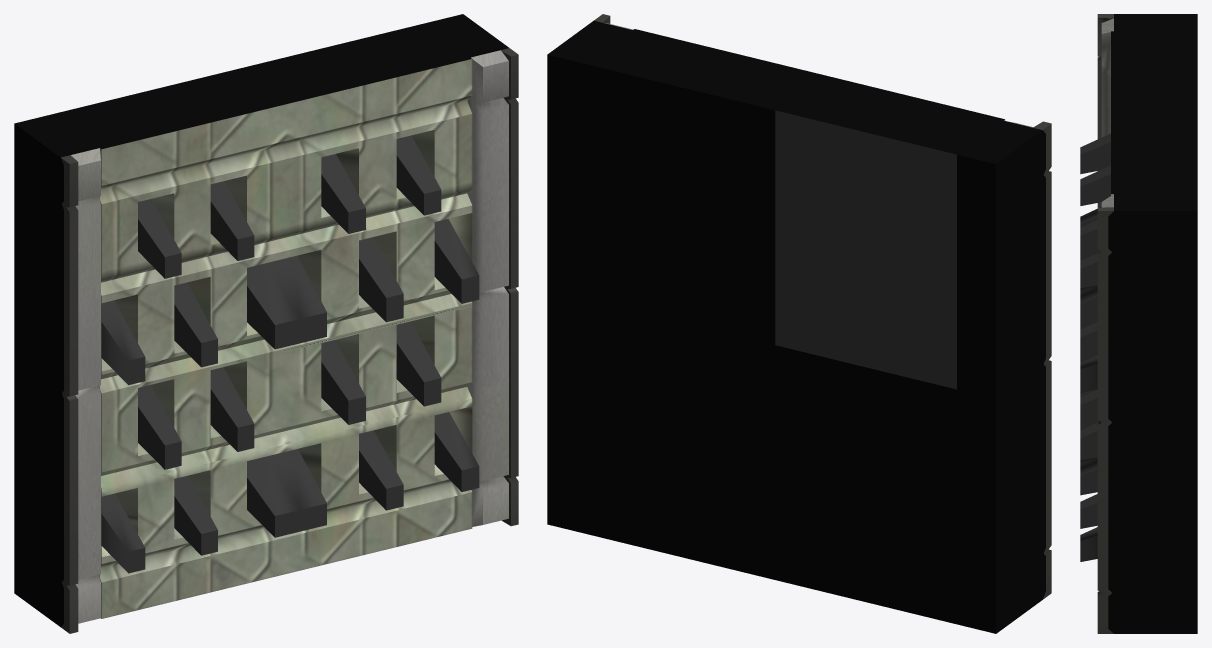
The model's file is BackWall3.fbx.
The picture shows the model from 3 angles, left to right: view 1: azimuth 30°, elevation 25°; view 2: azimuth 150°, elevation 25°; view 3: azimuth 270°, elevation 25°; orthographic projection. The views are drawn at different scales.
Parts seen in each view (by area): view 1: BackWall1; view 2: BackWall1; view 3: BackWall1.
Part boxes in pixels (<box>): BackWall1: <box>14,14,518,633</box>; BackWall1: <box>547,14,1051,633</box>; BackWall1: <box>1080,14,1197,633</box>.
Size of the model in its own units: 6 by 6 by 1.51.
